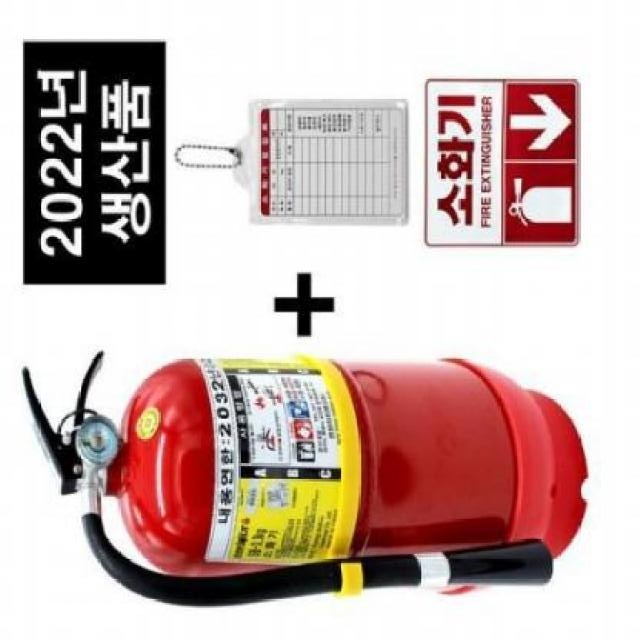fire extinguisher: (20, 350, 589, 610)
